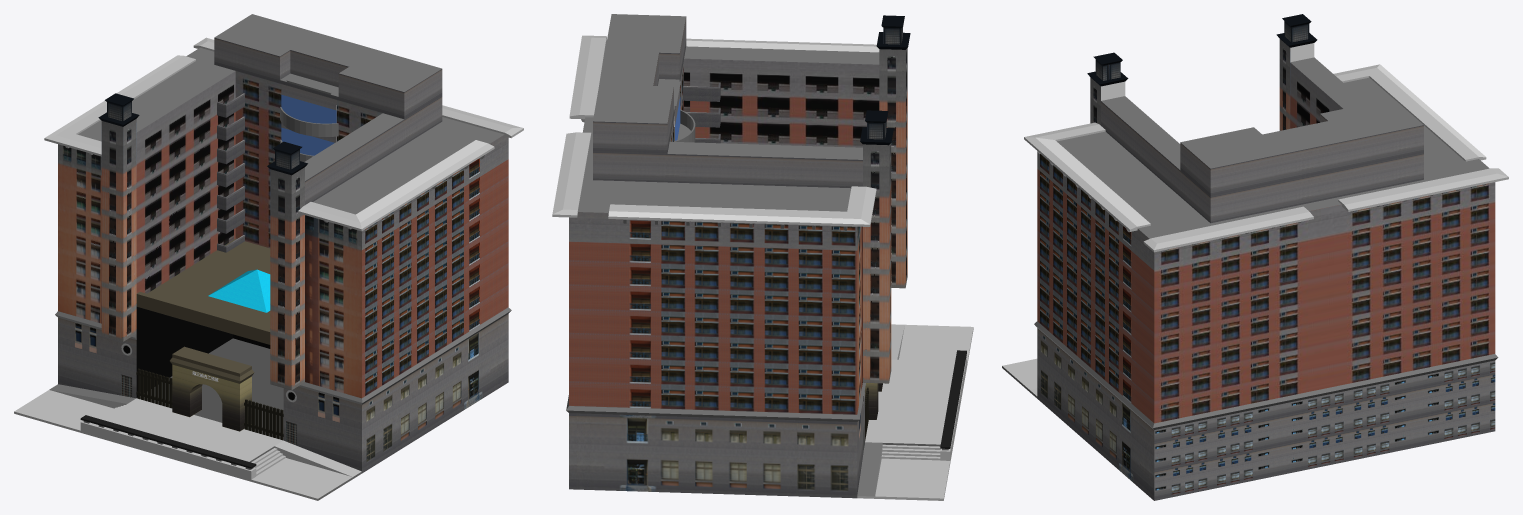
The model's file is 綜三館.glb.
3 views of the same model, side by side, from view 1: azimuth 30°, elevation 25°; view 2: azimuth 150°, elevation 25°; view 3: azimuth 270°, elevation 25° (orthographic). The views are drawn at different scales.
Visible parts, largest first — view 1: _G-Object (Loose Mesh), C-組件#4, C-組件#5.004; view 2: _G-Object (Loose Mesh), C-組件#4.001, C-組件#4, C-組件#3.009, C-組件#5.004; view 3: _G-Object (Loose Mesh), C-組件#4, C-組件#4.001.
Part boxes in pixels (bbox=[...]): _G-Object (Loose Mesh): bbox=[14, 14, 511, 500]; C-組件#4: bbox=[442, 105, 523, 138]; C-組件#5.004: bbox=[280, 106, 338, 136]; _G-Object (Loose Mesh): bbox=[566, 14, 973, 500]; C-組件#4.001: bbox=[552, 132, 591, 217]; C-組件#4: bbox=[569, 35, 606, 119]; C-組件#3.009: bbox=[683, 82, 720, 101]; C-組件#5.004: bbox=[674, 109, 695, 142]; _G-Object (Loose Mesh): bbox=[1002, 14, 1498, 500]; C-組件#4: bbox=[1143, 206, 1313, 252]; C-組件#4.001: bbox=[1338, 168, 1508, 211].
Size of the model in its own units: 50.91 by 36.14 by 51.85.
Materials: 24 (12 with a texture image).
